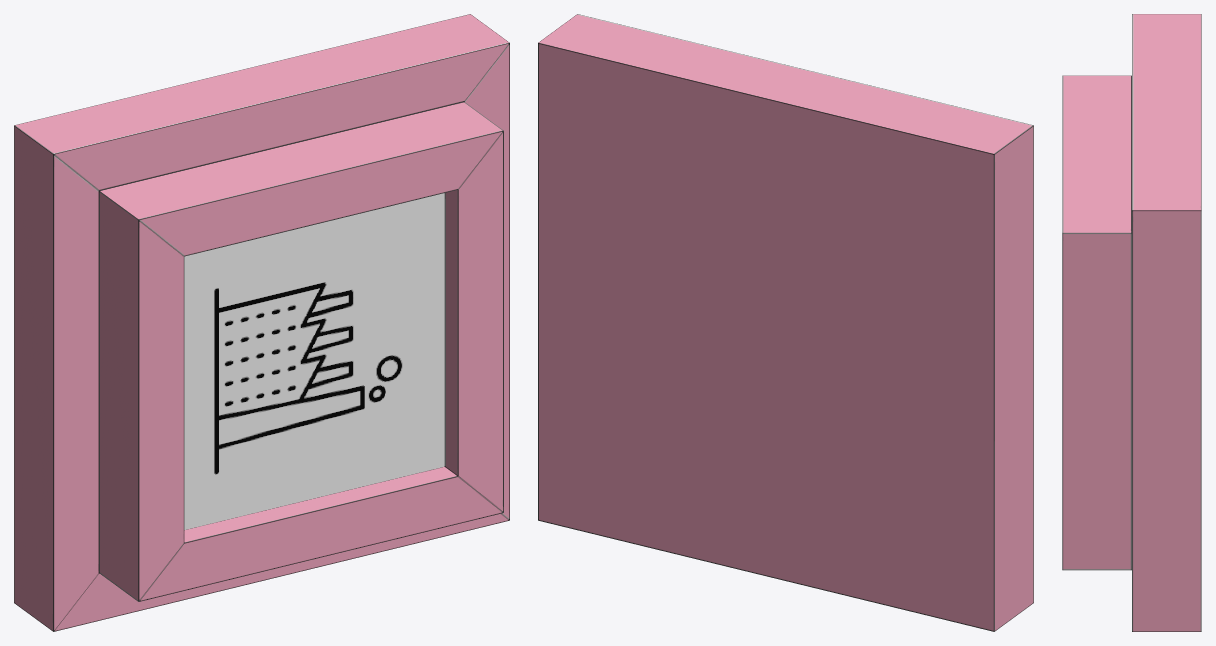
File: CarbonLevel2_rot_2_3.fbx
The picture shows the model from 3 angles, left to right: view 1: azimuth 30°, elevation 25°; view 2: azimuth 150°, elevation 25°; view 3: azimuth 270°, elevation 25°; orthographic projection. The views are drawn at different scales.
Visible parts, largest first — view 1: Plane; view 2: Plane; view 3: Plane.
Boxes of the visible parts, <box> form: Plane: <box>14,14,509,631</box>; Plane: <box>538,14,1033,631</box>; Plane: <box>1062,14,1201,631</box>.
Size of the model in its own units: 460 by 460 by 138.
Materials: 1 (1 with a texture image).
